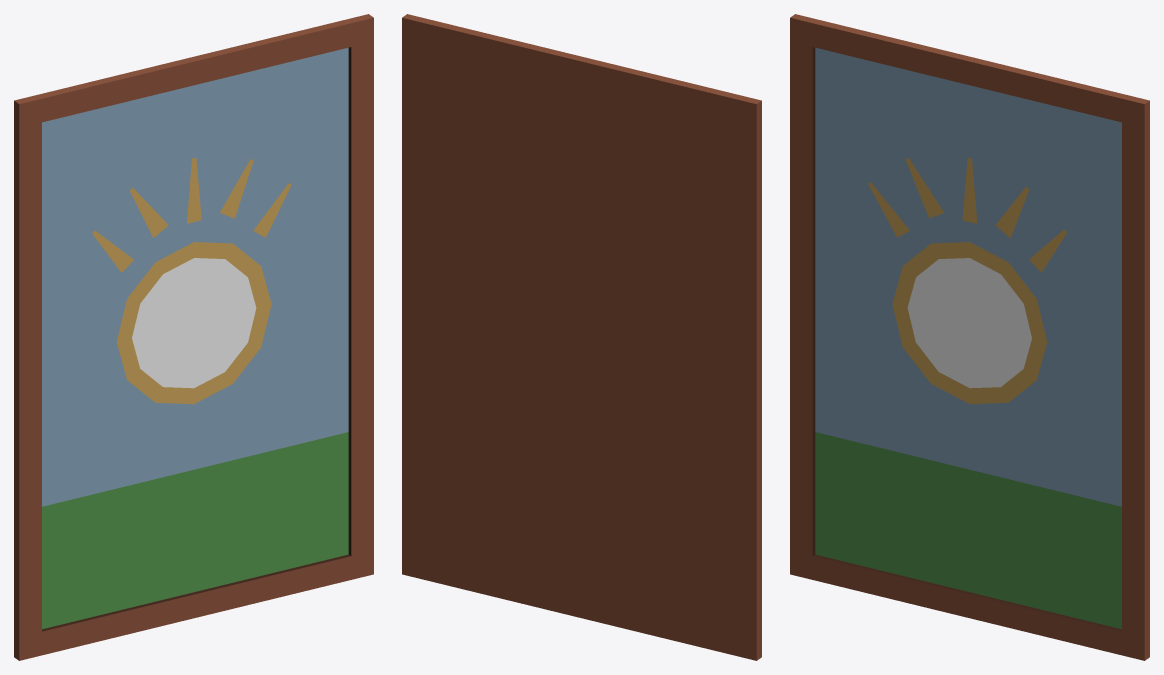
The model's file is Int_WallPainting01_3.fbx.
3 views of the same model, side by side, from view 1: azimuth 30°, elevation 25°; view 2: azimuth 150°, elevation 25°; view 3: azimuth 330°, elevation 25° (orthographic).
Visible parts, largest first — view 1: Int_WallPainting01_3; view 2: Int_WallPainting01_3; view 3: Int_WallPainting01_3.
Boxes of the visible parts, left/top/right/bottom form: Int_WallPainting01_3: left=14, top=14, right=373, bottom=660; Int_WallPainting01_3: left=402, top=14, right=761, bottom=660; Int_WallPainting01_3: left=790, top=14, right=1149, bottom=660.
Size of what is drawn, in the model's own units: 100 by 2.5 by 150.
